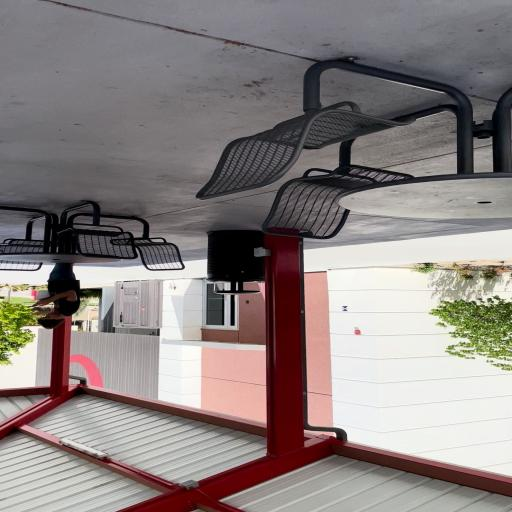target2: (342, 306, 348, 311)
